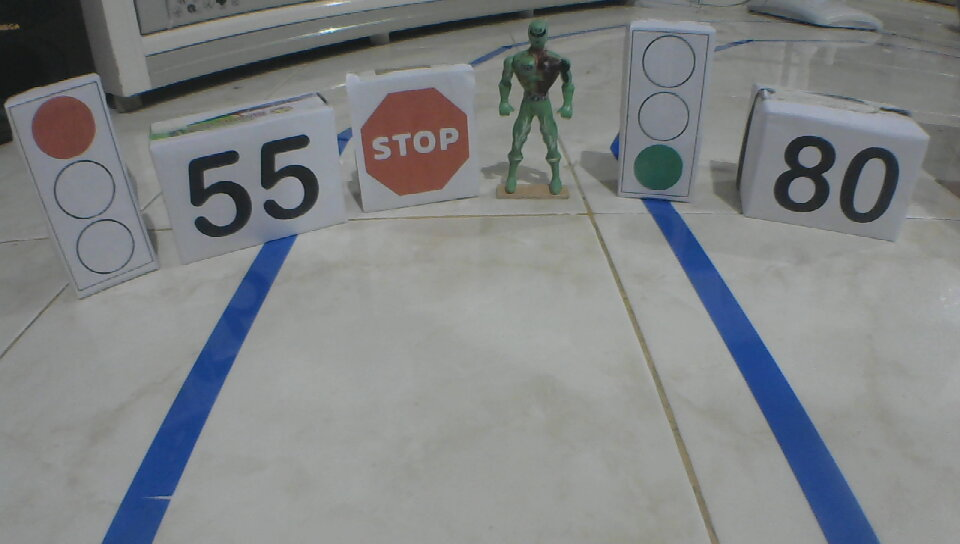Green Light: (627, 34, 698, 194)
Person: (492, 16, 579, 201)
Red Light: (28, 94, 137, 277)
Speed 55: (184, 131, 323, 243)
Speed 80: (772, 132, 903, 226)
Stop: (359, 83, 474, 196)
